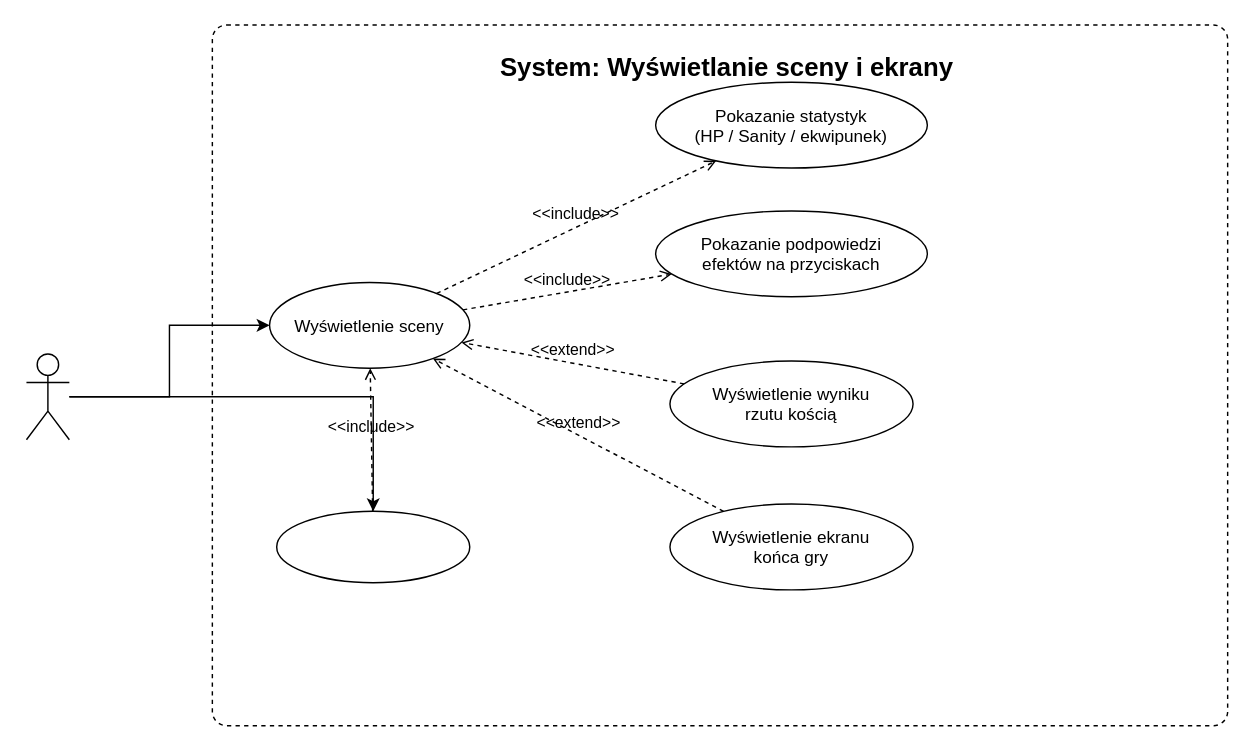
Some shapes in this 1253 by 751 pixel diagram are drawn without their labels. The centre of each missing label's shape, as x and y in pixels:
Dokonanie wyboru: the point at 372,546
Gracz: the point at 47,396
